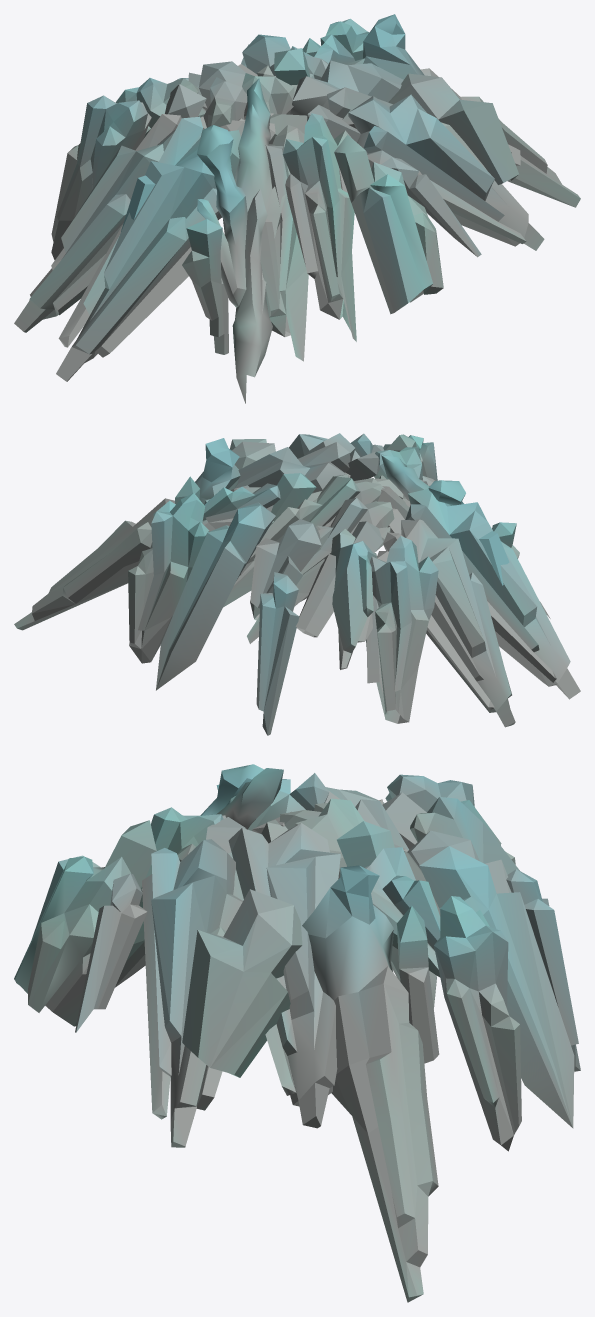
3 views of the same model, one above another, from view 1: azimuth 30°, elevation 25°; view 2: azimuth 150°, elevation 25°; view 3: azimuth 270°, elevation 25° (orthographic). The views are drawn at different scales.
Visible parts, largest first — view 1: G:\FFXIV-MapTools\exports\l1f1\bg\ffxiv\lak_l1\fld\l1f1\bgpa; view 2: G:\FFXIV-MapTools\exports\l1f1\bg\ffxiv\lak_l1\fld\l1f1\bgpa; view 3: G:\FFXIV-MapTools\exports\l1f1\bg\ffxiv\lak_l1\fld\l1f1\bgpa.
Part boxes in pixels (left/top/right/bottom): G:\FFXIV-MapTools\exports\l1f1\bg\ffxiv\lak_l1\fld\l1f1\bgpa: left=14, top=14, right=580, bottom=403; G:\FFXIV-MapTools\exports\l1f1\bg\ffxiv\lak_l1\fld\l1f1\bgpa: left=14, top=433, right=580, bottom=735; G:\FFXIV-MapTools\exports\l1f1\bg\ffxiv\lak_l1\fld\l1f1\bgpa: left=14, top=764, right=580, bottom=1302.
Size of the model in its own units: 7.21 by 2.99 by 4.89.
